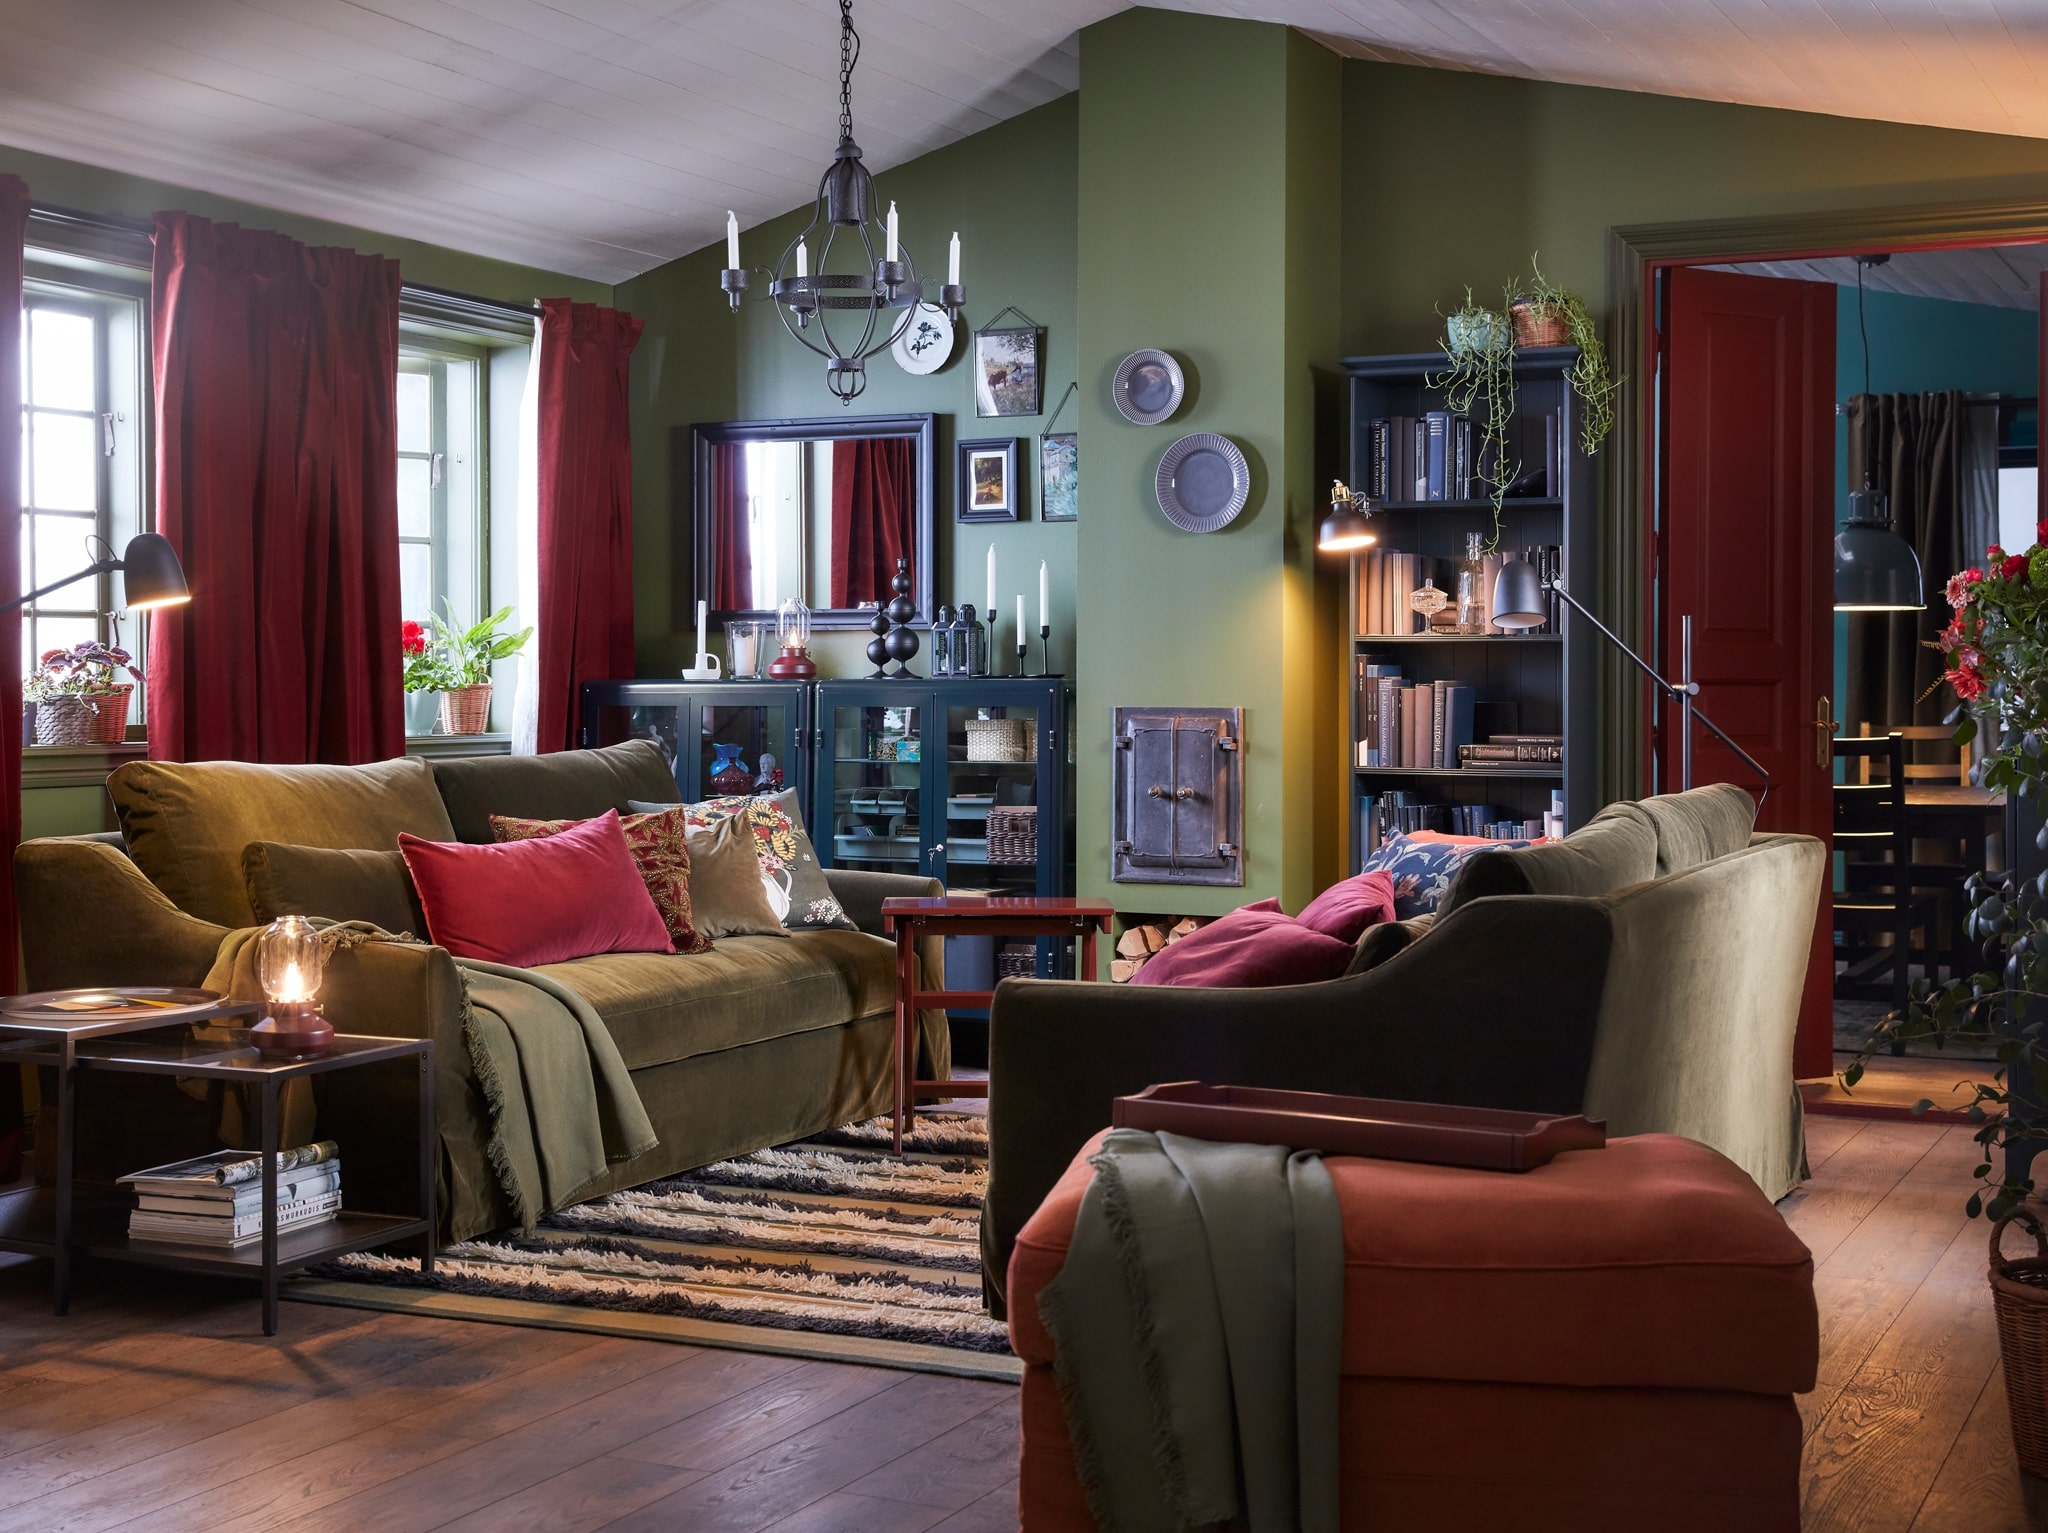bantal: (411, 824, 670, 960), (667, 813, 782, 944)
buku: (127, 1140, 346, 1246), (1356, 667, 1460, 770), (1356, 552, 1464, 646), (1357, 406, 1467, 498)
foto: (950, 435, 1030, 531)
kursi: (1030, 1101, 1827, 1533)
lampu: (8, 546, 198, 742), (1831, 475, 1932, 626)
lukisan: (968, 320, 1048, 424), (1042, 427, 1076, 523)
meja: (56, 1018, 443, 1353)
sova: (31, 729, 964, 1180), (985, 784, 1810, 1182)
tanaman: (1963, 547, 2048, 1221), (1443, 269, 1623, 501), (415, 615, 525, 734), (32, 643, 143, 752)
